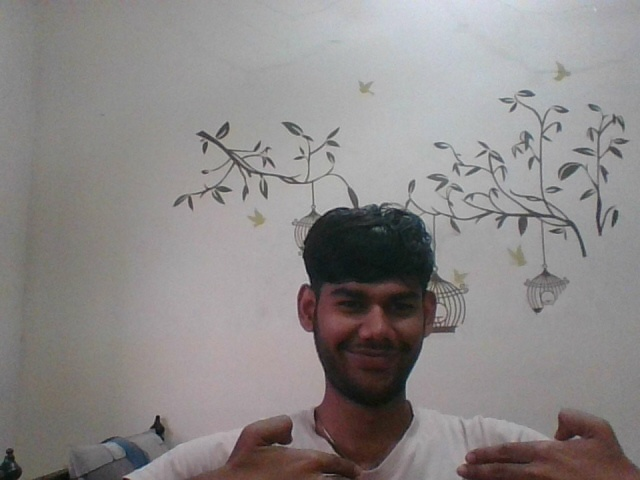I am Utkarsh: (234, 382, 617, 477)
